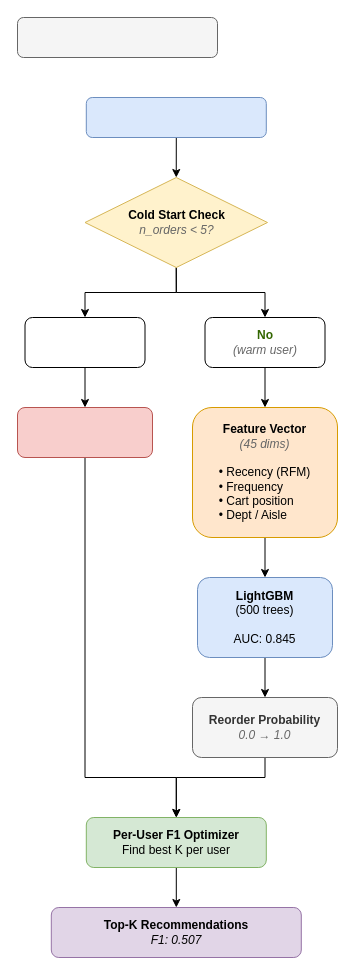
Some shapes in this 355 by 975 pixel diagram are drawn without their labels. Here are the shapes that lost their labels. From the top down, the centre of each, then its label:
[117,37]: Model Architecture
[175,117]: User-Product Pair Input
[84,342]: Yes (cold / new user)
[84,432]: Popularity Fallback
